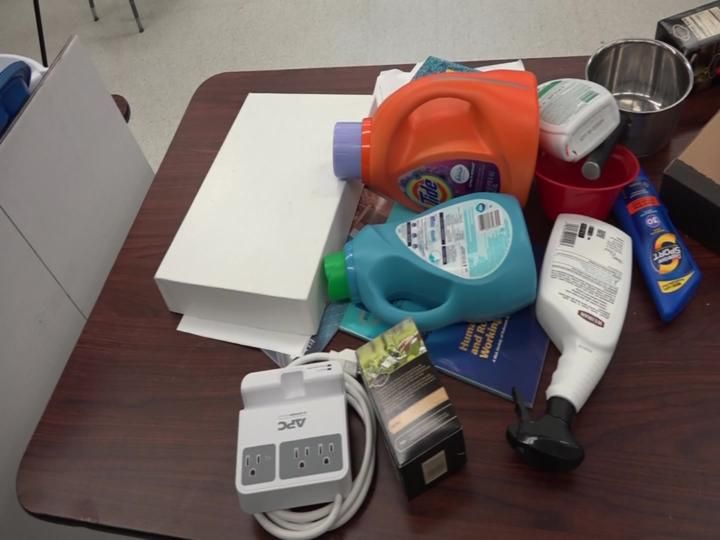downy: (308, 182, 542, 334)
